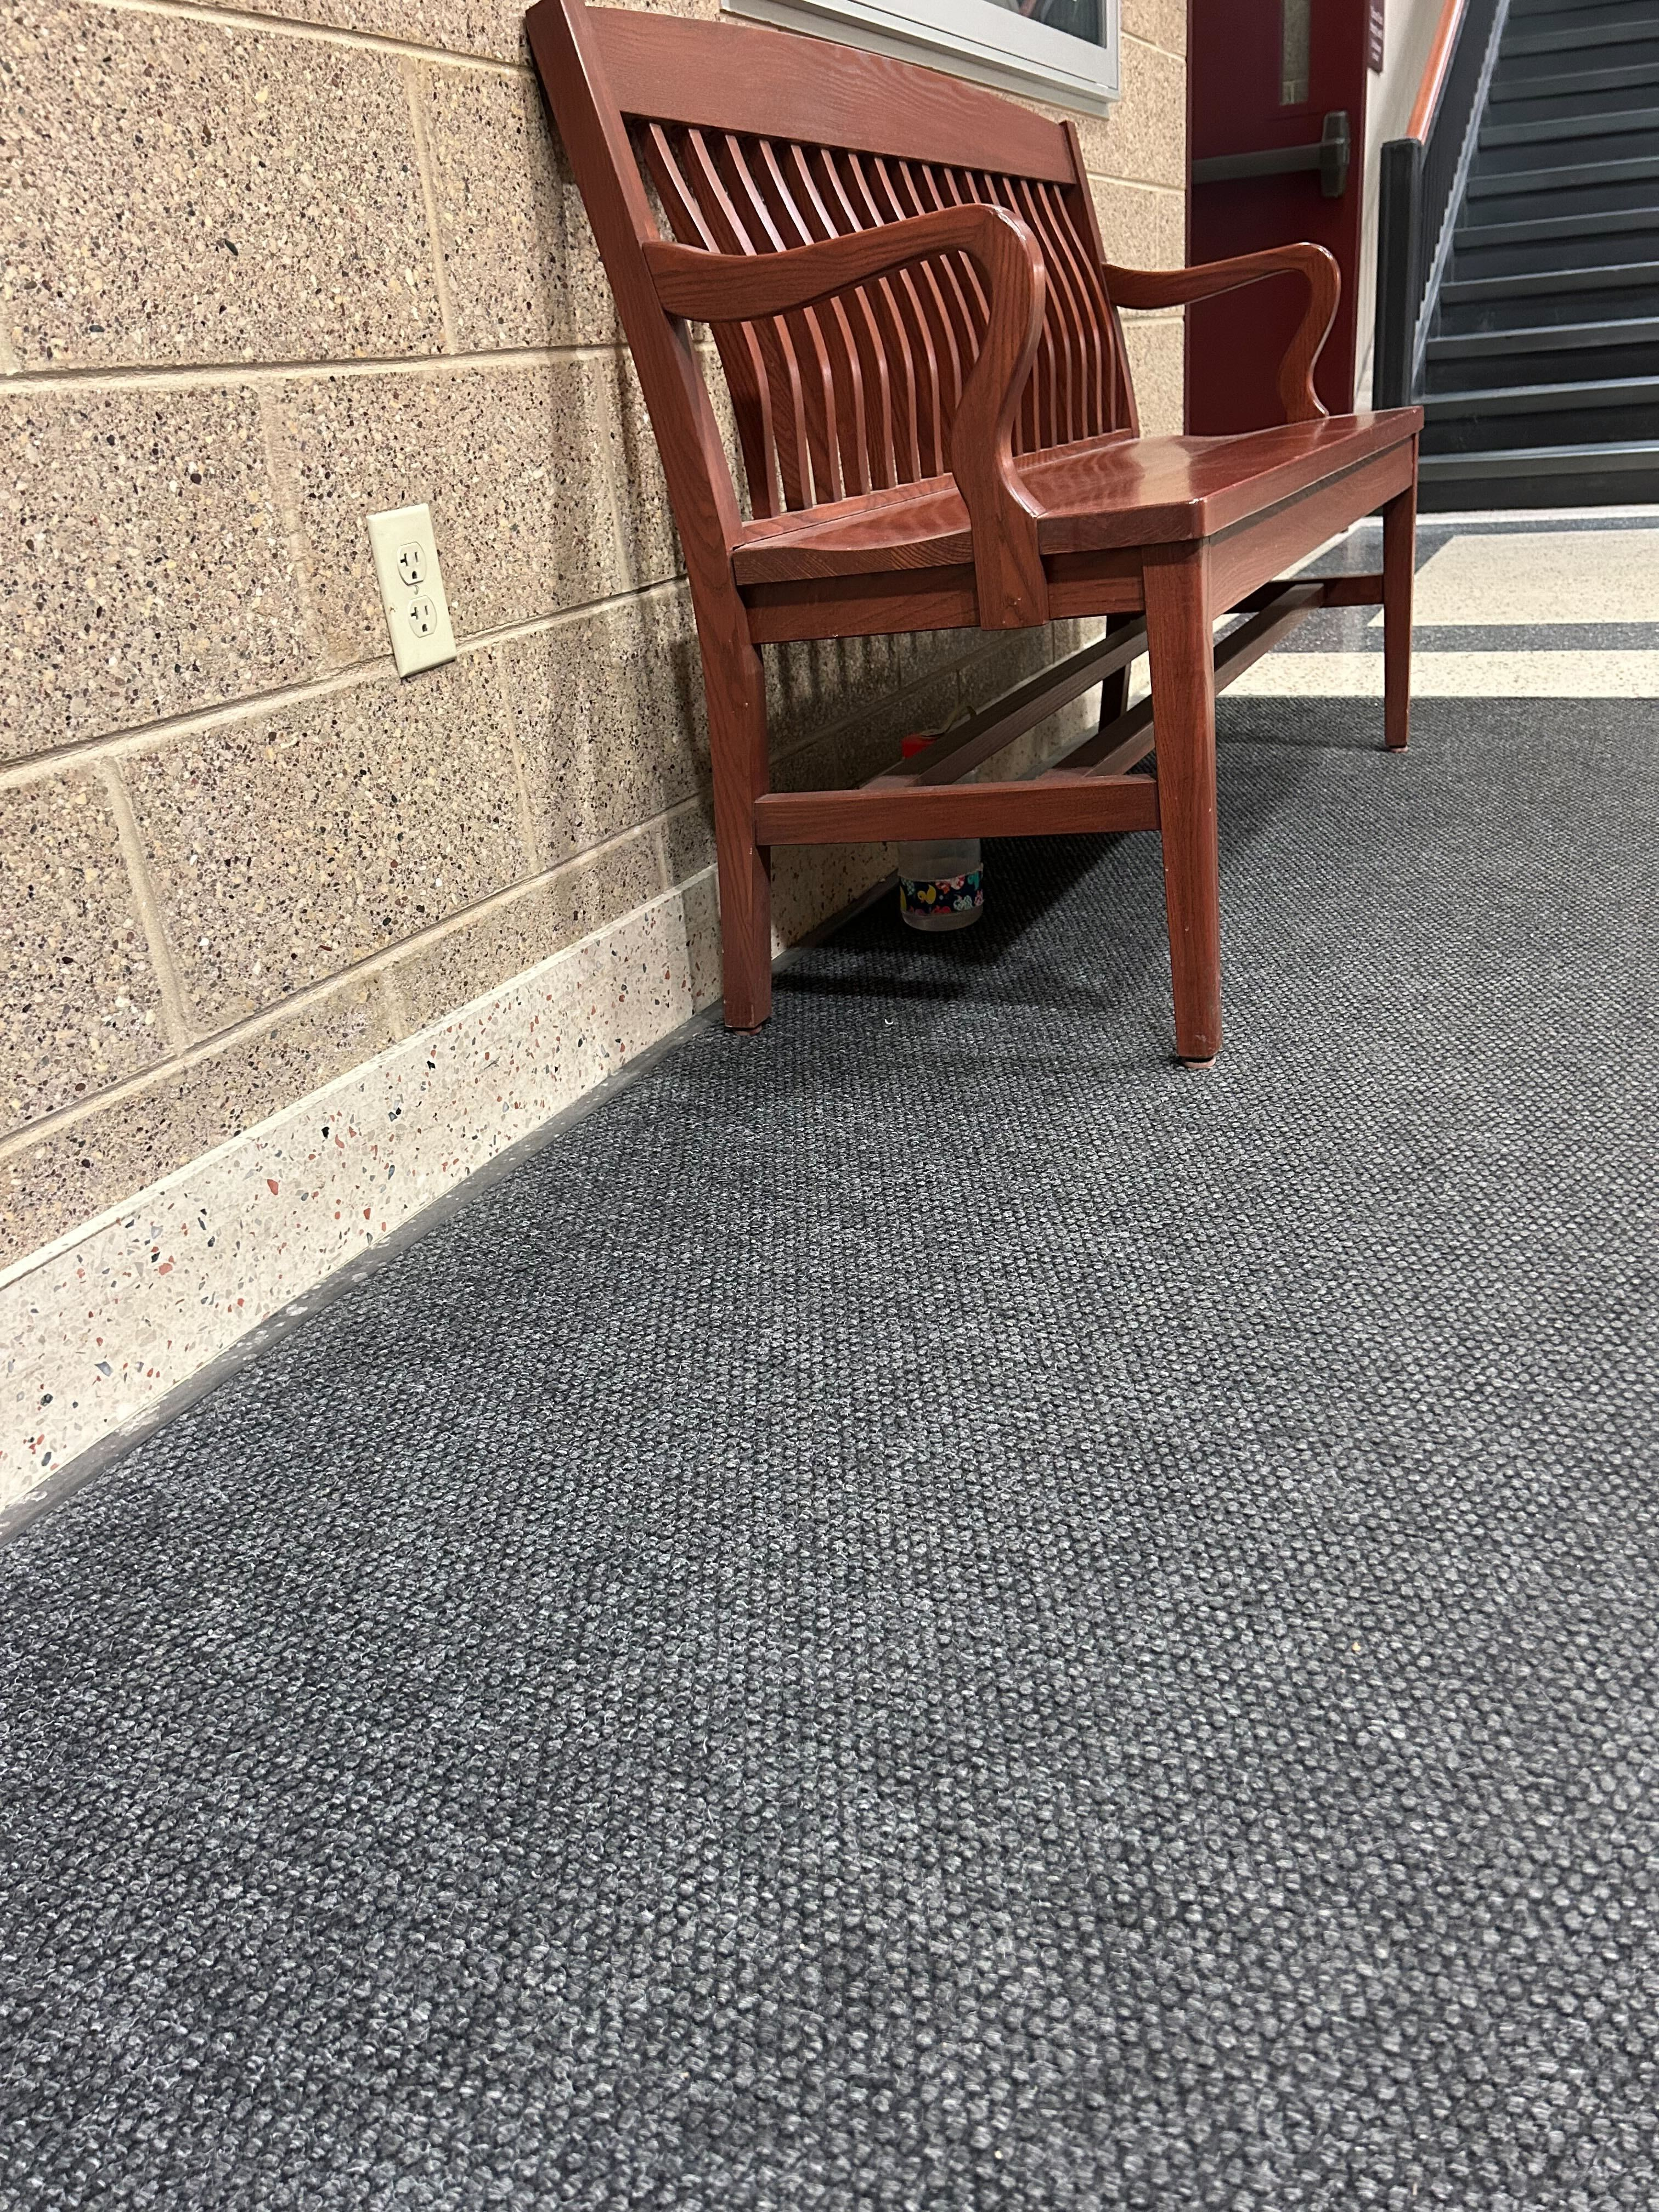bottle: (896, 686, 986, 941)
